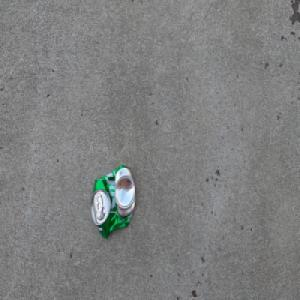SodaCan: (90, 163, 137, 239)
